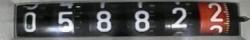digits: (167, 6, 190, 29), (56, 10, 77, 35), (204, 3, 226, 24), (134, 10, 150, 31), (96, 10, 111, 31), (23, 11, 36, 32)
